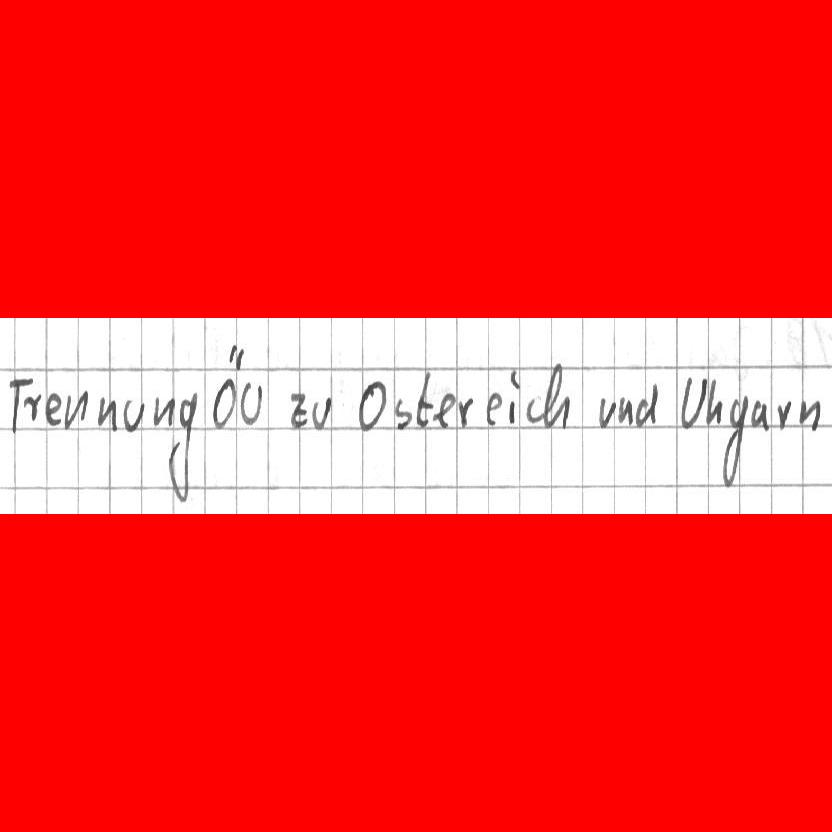Char: (166, 391, 201, 503), (718, 397, 748, 485), (211, 349, 241, 434), (543, 361, 573, 430), (680, 374, 707, 430), (358, 378, 386, 431), (7, 375, 34, 428), (415, 372, 435, 430), (634, 381, 657, 427), (241, 378, 261, 429), (63, 387, 86, 431), (151, 393, 177, 430), (796, 396, 821, 432), (705, 377, 723, 425), (288, 391, 309, 430), (507, 369, 521, 427), (310, 395, 332, 431), (123, 396, 145, 432), (96, 394, 117, 431), (750, 396, 770, 431), (436, 391, 454, 429), (20, 392, 42, 423), (393, 396, 413, 429), (485, 391, 503, 425), (597, 394, 615, 428), (456, 396, 475, 428), (45, 390, 62, 425), (523, 394, 542, 425), (775, 398, 793, 430), (618, 396, 633, 426)
